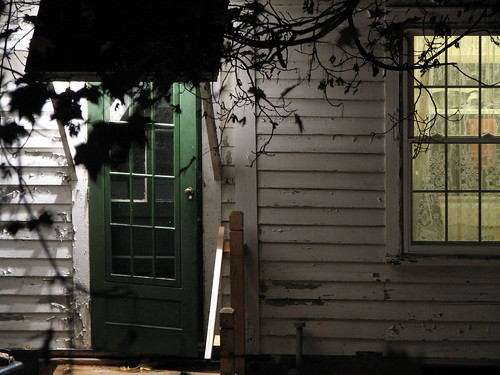building: (1, 1, 494, 357)
door: (79, 69, 208, 360)
window: (392, 24, 500, 258)
